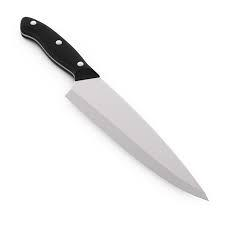Knife: (19, 15, 209, 201)
